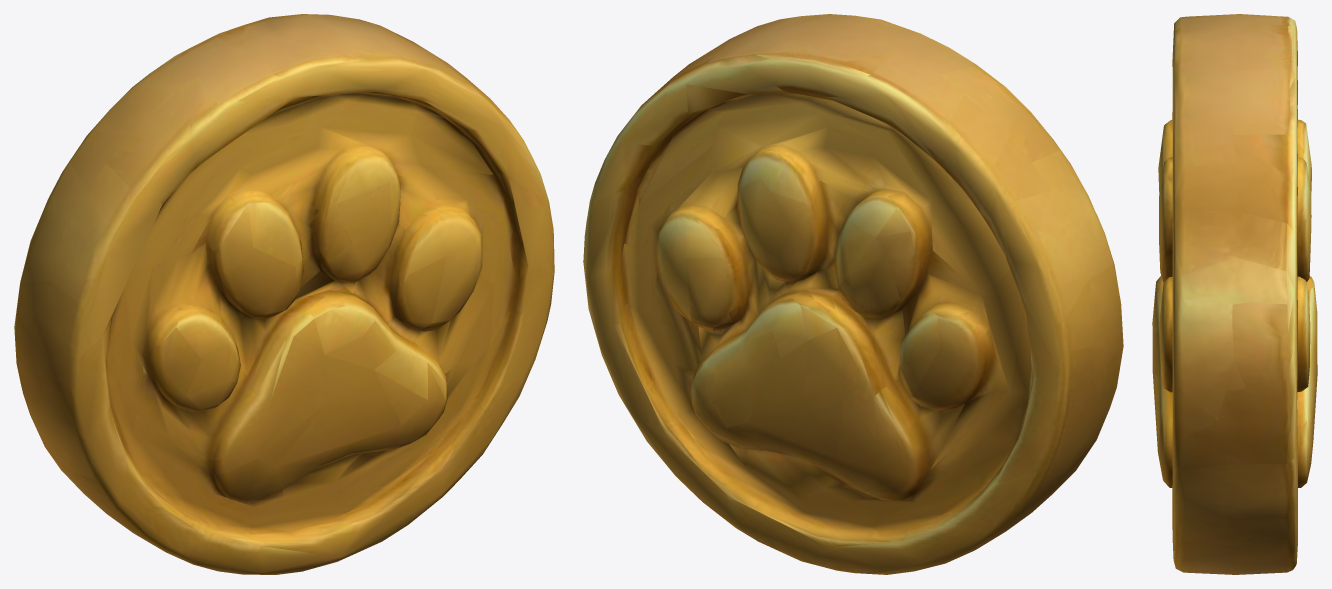
Rendered from reward_coin.glb.
3 renders of one model, left to right at view 1: azimuth 30°, elevation 25°; view 2: azimuth 150°, elevation 25°; view 3: azimuth 270°, elevation 25°, orthographic.
Visible parts, largest first — view 1: Reward coin; view 2: Reward coin; view 3: Reward coin.
Boxes of the visible parts, x1,y1,x2,y2 form: Reward coin: (14, 14, 554, 574); Reward coin: (583, 14, 1123, 574); Reward coin: (1152, 14, 1317, 574).
Bounding box in the file's own units: 0.46 × 0.4611 × 0.1351.
Materials: 1 (1 with a texture image).
